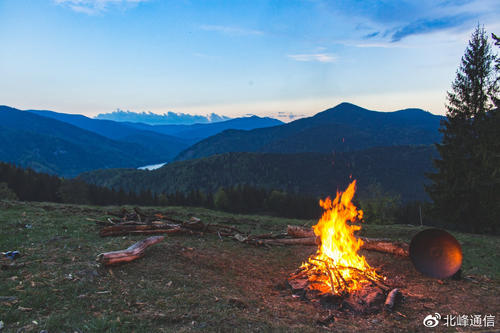fire: (315, 181, 365, 279)
